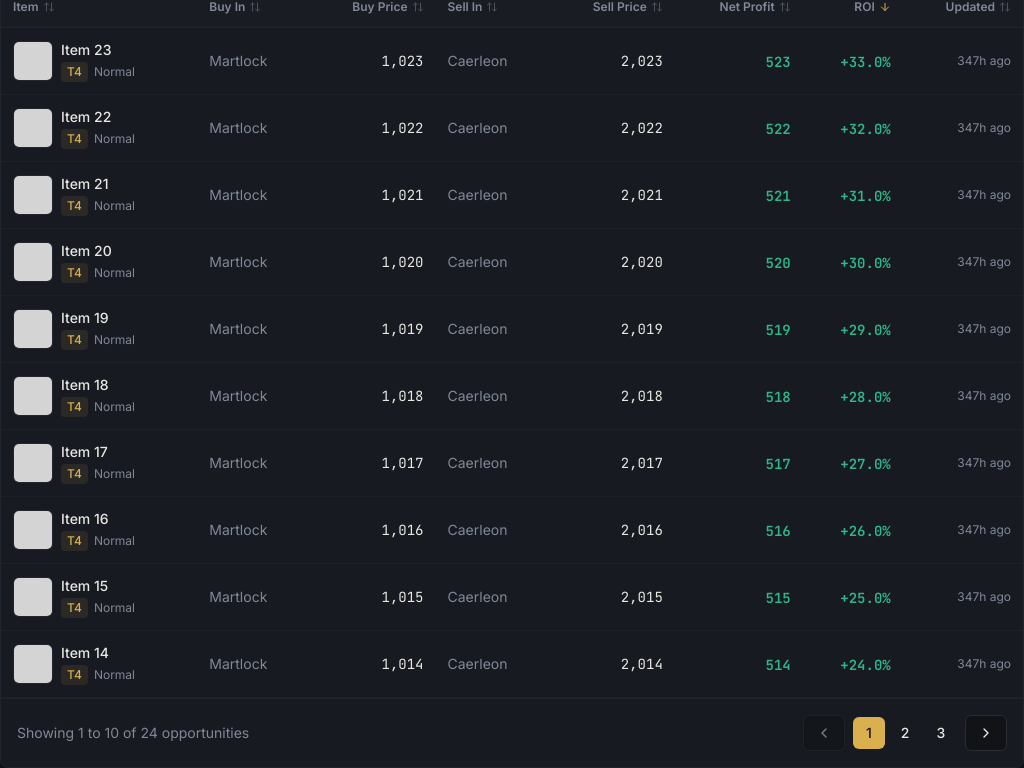
ArbitrageTable refinements › permite navegar para a página seguinte da arbitrage table
The image size is (1024, 768).
(page scrolled)
Click the button "2": [905, 733] box [889, 717, 921, 749]
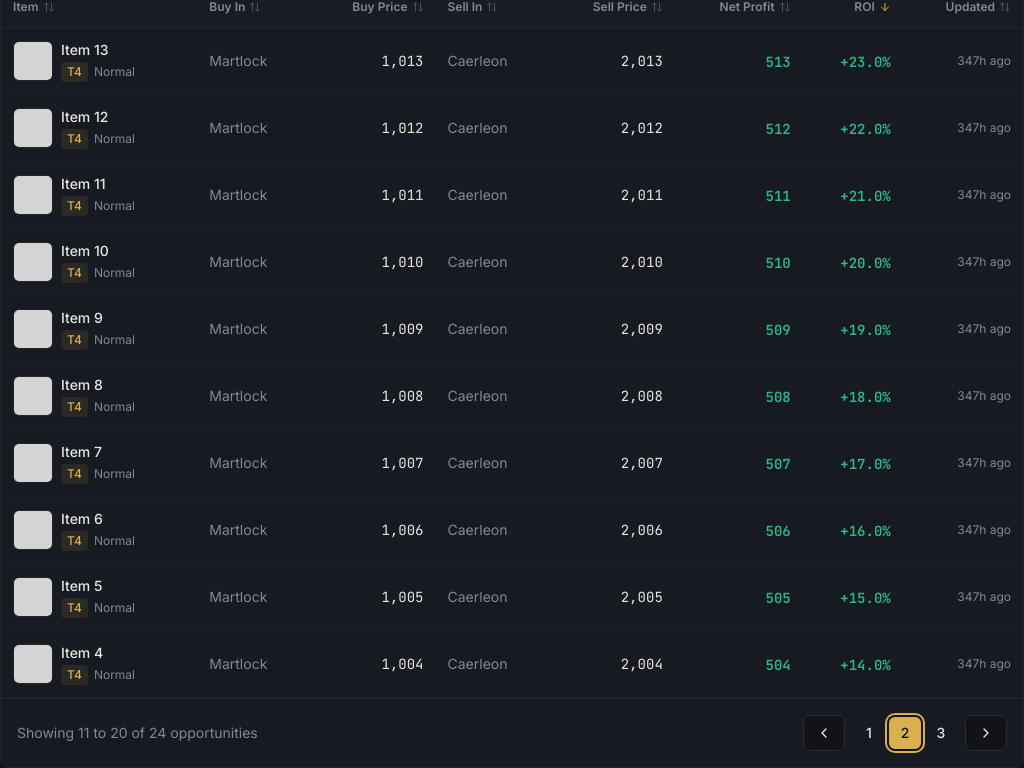
Now the text "Showing 11 to 20 of 24 opportunities" is shown, box [17, 723, 258, 743]
